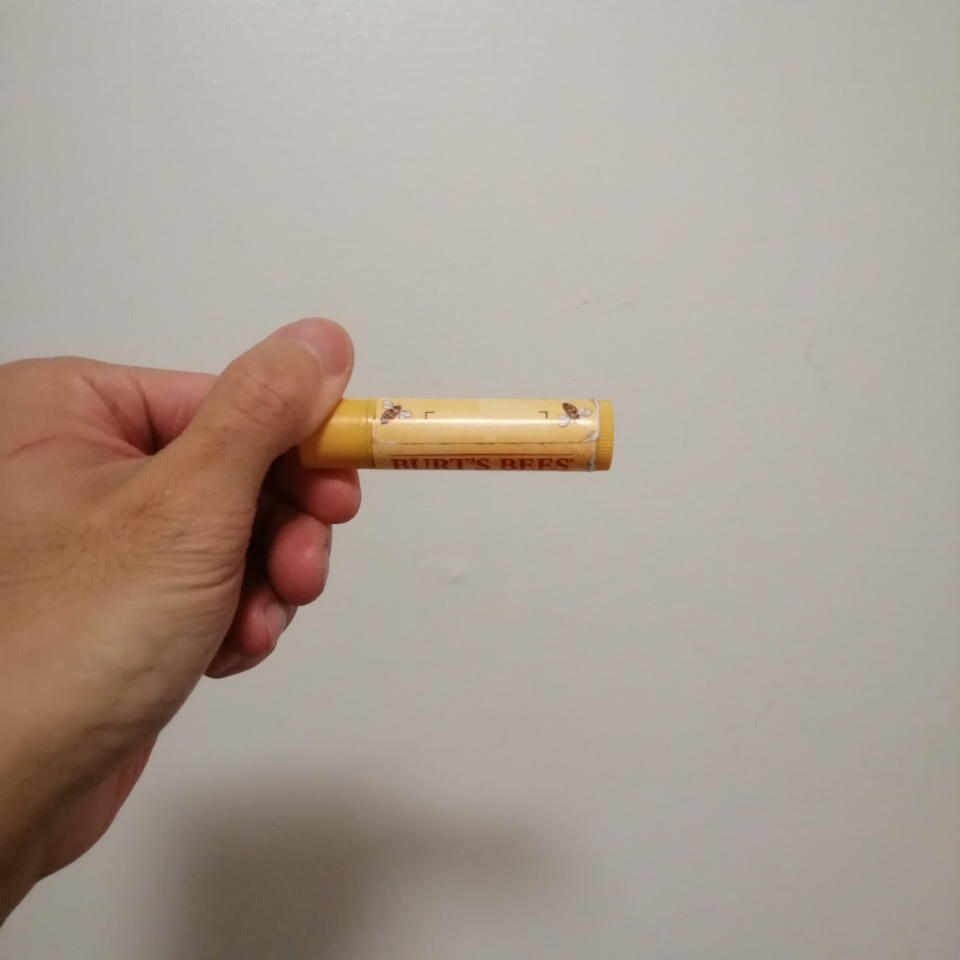chapstick: (299, 399, 615, 472)
